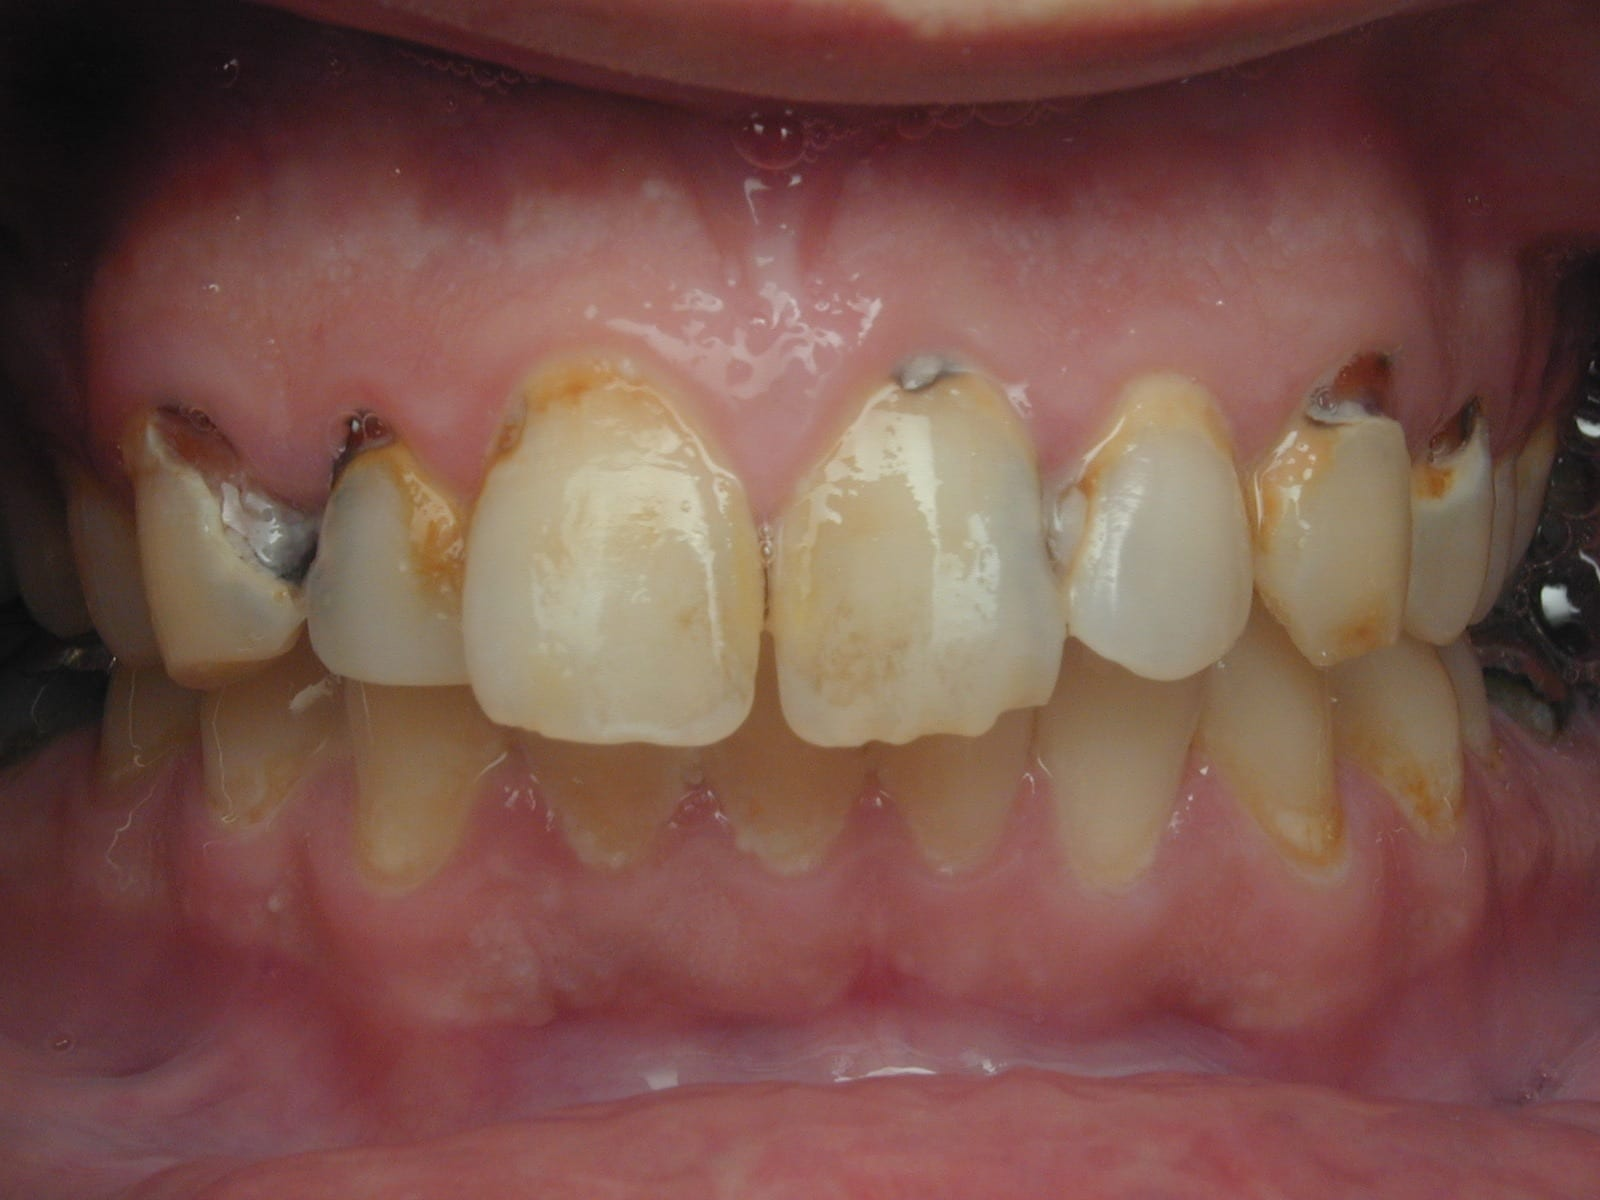UL1BC_decay: (1409, 402, 1503, 648)
ULCI_decay: (784, 359, 1065, 734)
ULC_decay: (1259, 352, 1414, 667)
ULLI_decay: (1065, 372, 1259, 679)
URCI_decay: (457, 364, 765, 760)
URC_decay: (134, 405, 309, 684)
URLI_decay: (291, 417, 476, 702)
